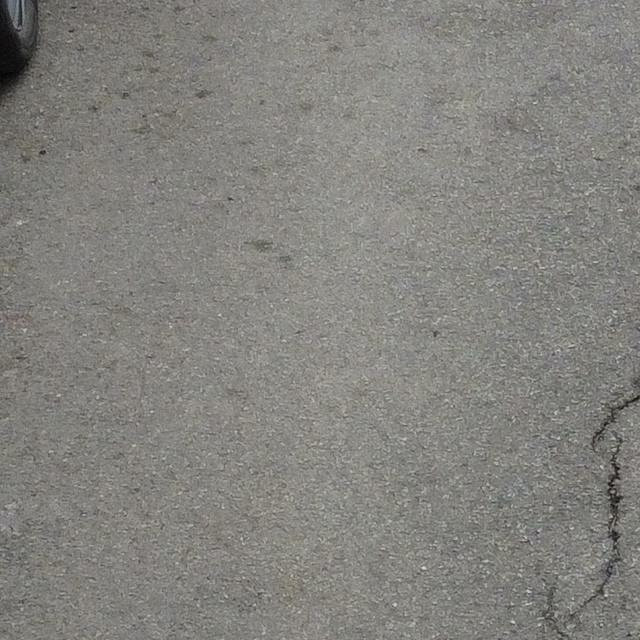LongitudinalCrack: (554, 395, 640, 637)
